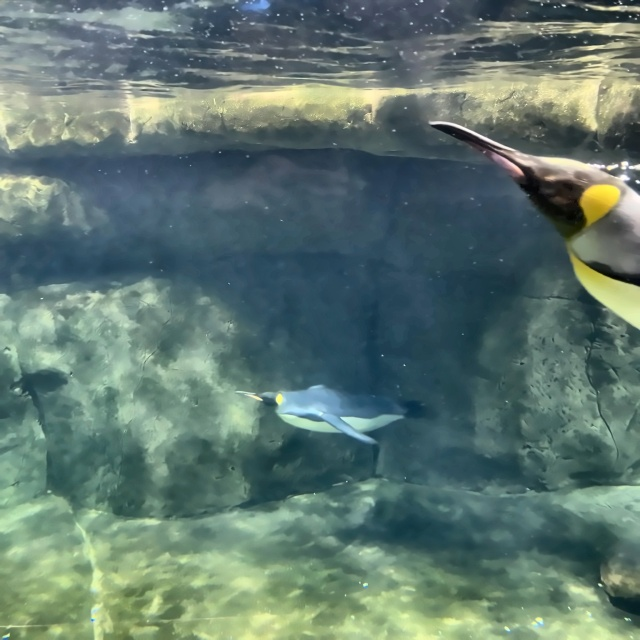penguin: (427, 120, 639, 333), (235, 384, 435, 445)
